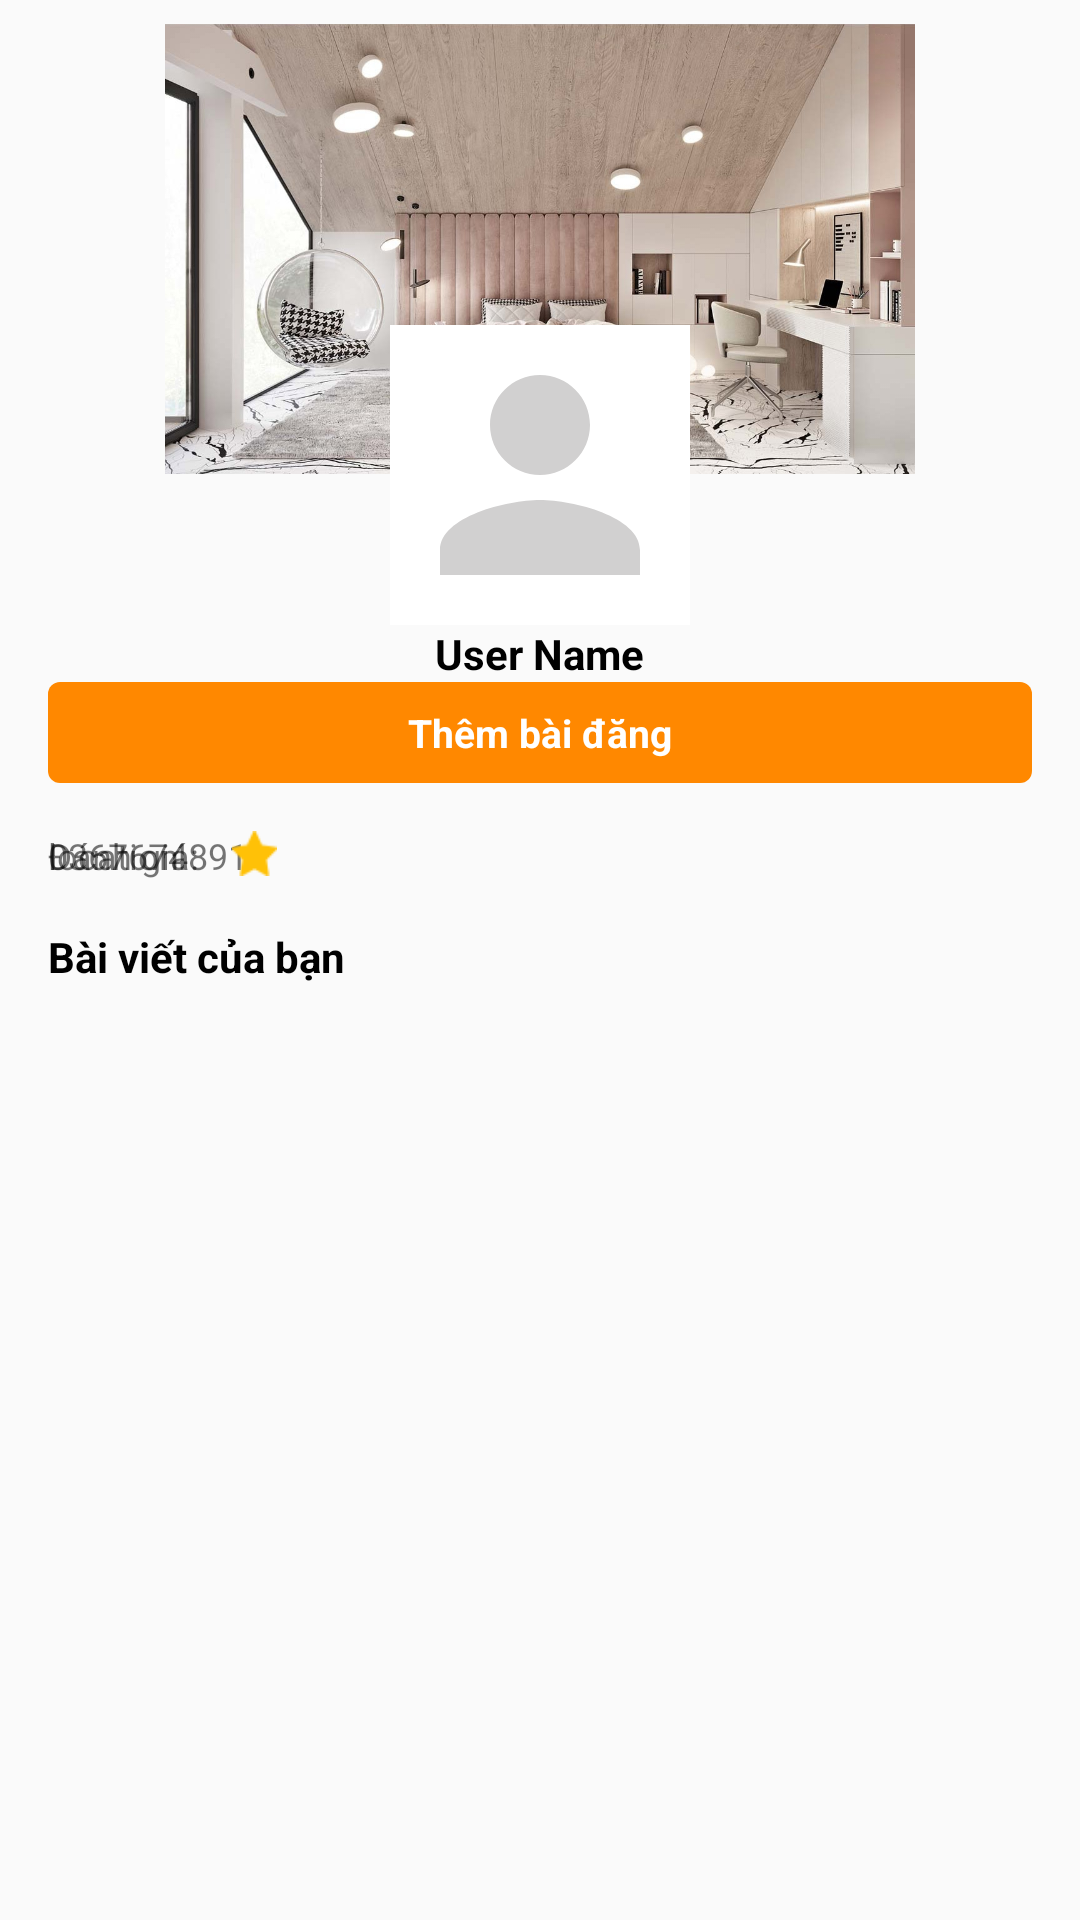

Icons on this 1080px×1920px Android screen, each with the point to tap as (x=x, y=y):
rating full: (x=254, y=853)
